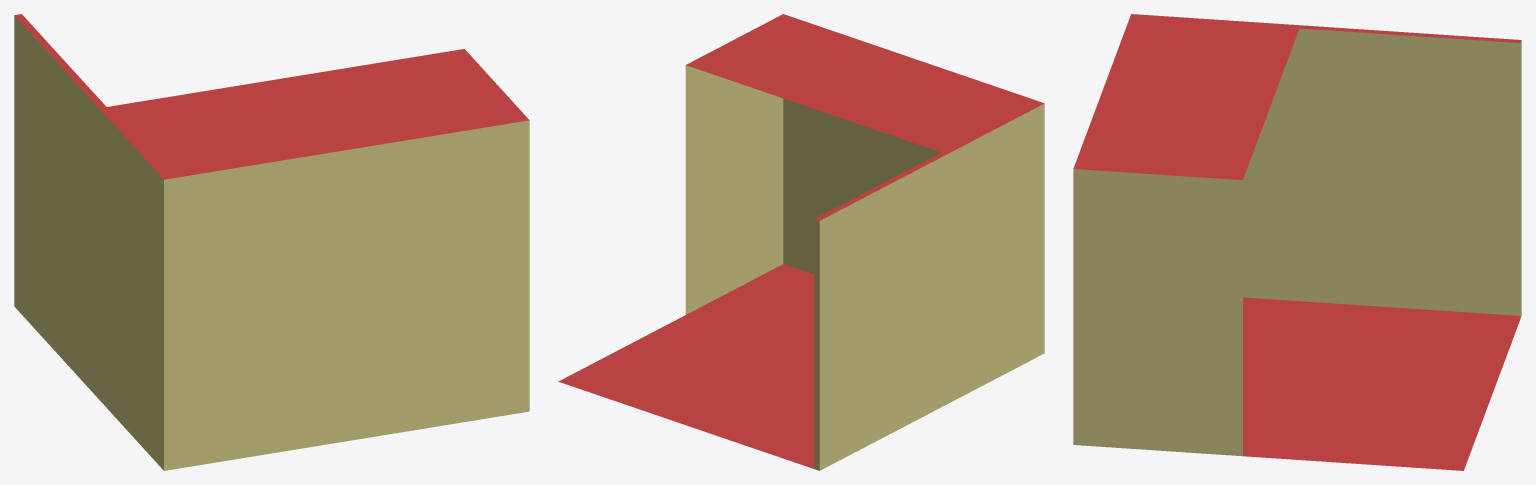
3 views of the same model, side by side, from view 1: azimuth 30°, elevation 25°; view 2: azimuth 150°, elevation 25°; view 3: azimuth 270°, elevation 25° (orthographic). The views are drawn at different scales.
Bounding box in the file's own units: 7.98 × 8.36 × 5.68.
